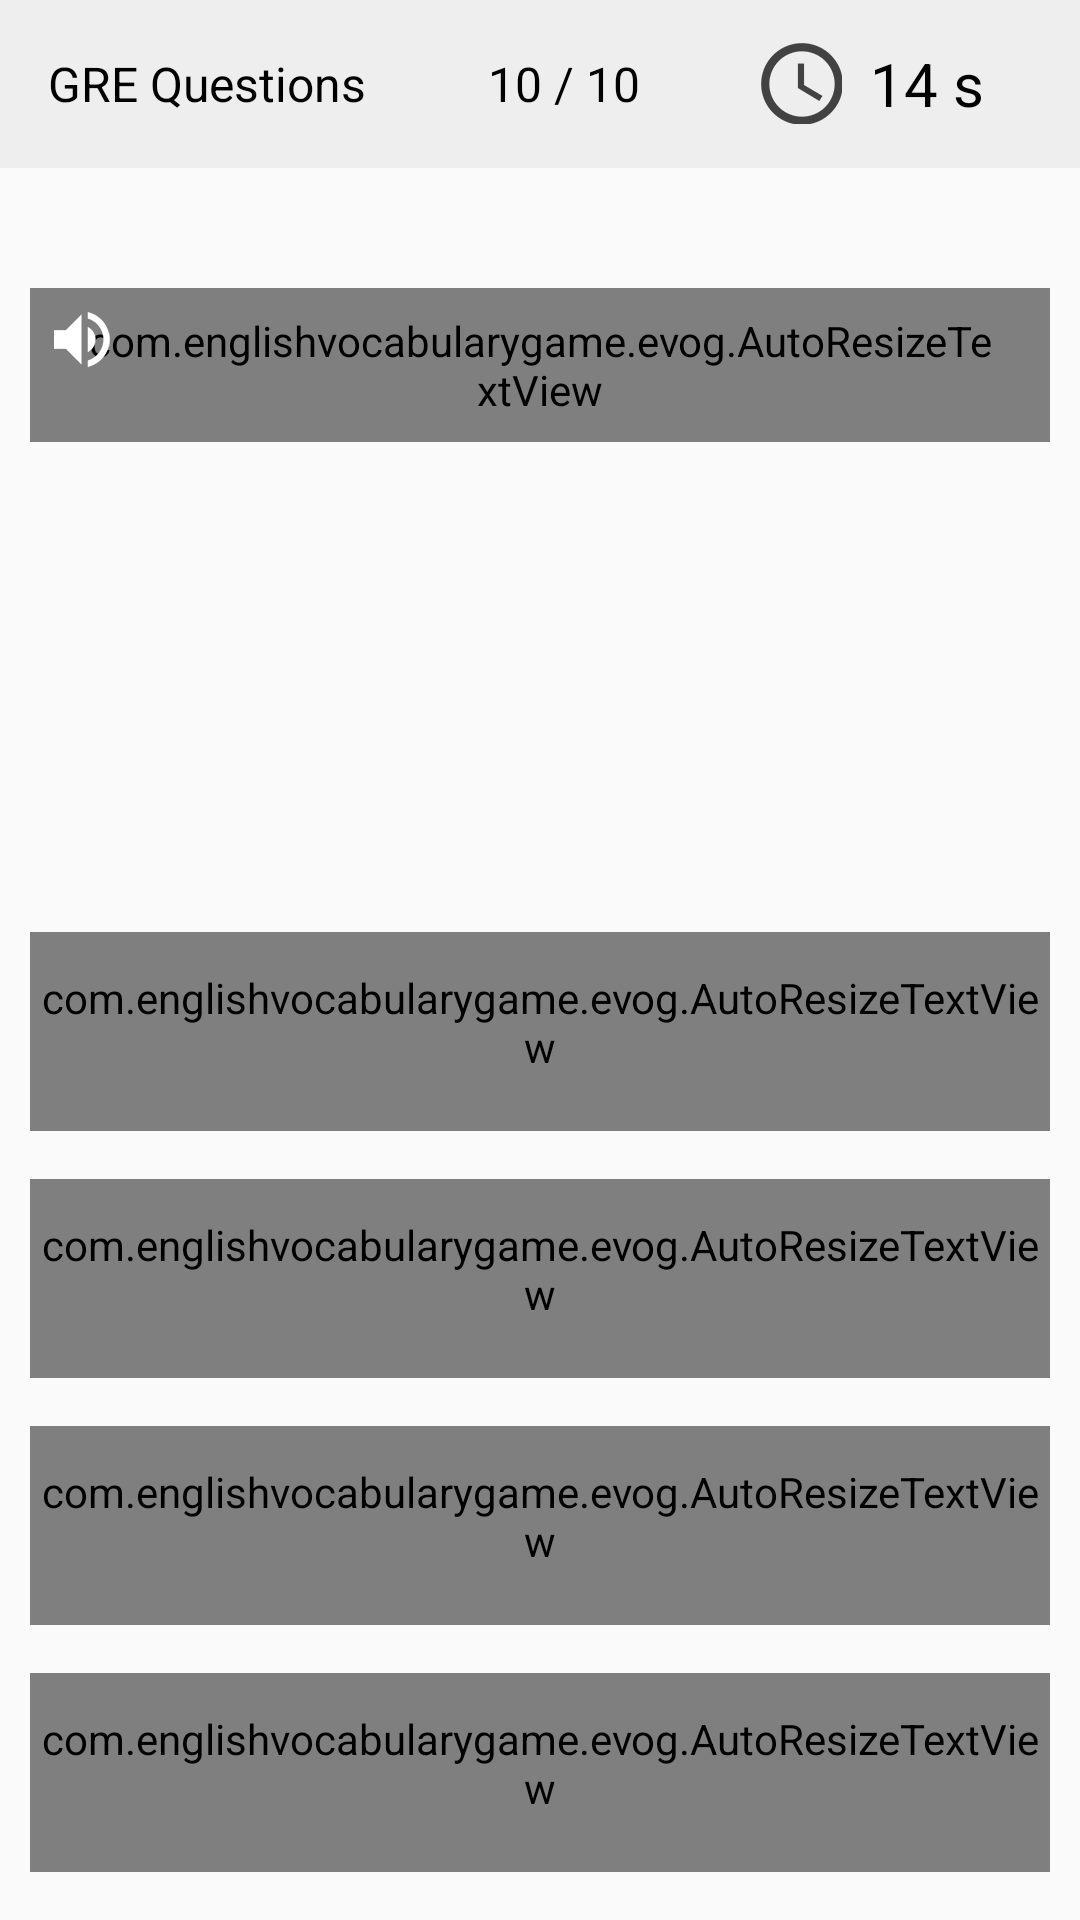

Icon bounding boxes for this 1080x1920 phone screenshot, format (x1, y1, x2, y2):
time: (761, 43, 842, 124)
